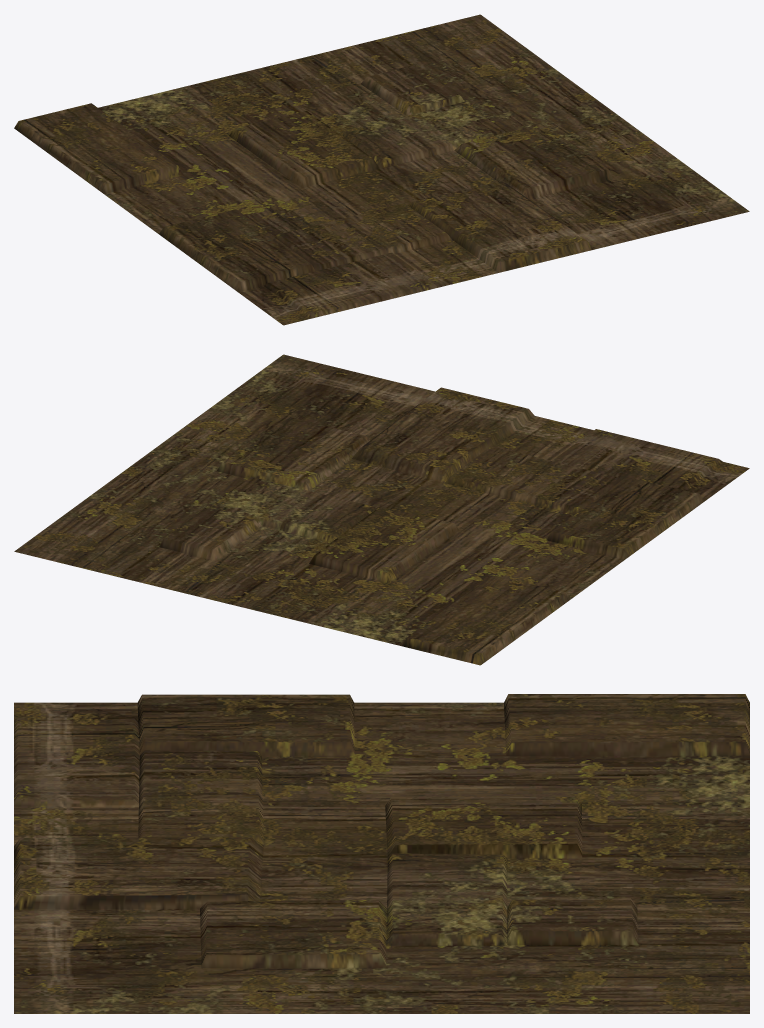
The model's file is Floor_Detailed_05.fbx.
3 renders of one model, top to bottom at view 1: azimuth 30°, elevation 25°; view 2: azimuth 150°, elevation 25°; view 3: azimuth 270°, elevation 25°, orthographic. The views are drawn at different scales.
Parts seen in each view (by area): view 1: Floor_Detailed_05; view 2: Floor_Detailed_05; view 3: Floor_Detailed_05.
Part boxes in pixels (x1,y1,x2,y2): Floor_Detailed_05: (14, 14, 749, 325); Floor_Detailed_05: (14, 354, 749, 665); Floor_Detailed_05: (14, 694, 749, 1013).
Size of the model in its own units: 6 by 0.0954 by 6.
